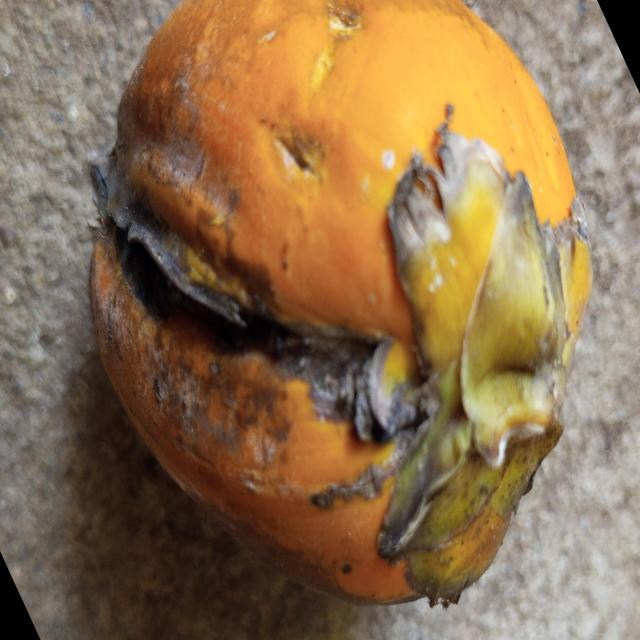damaged: (90, 0, 592, 604)
